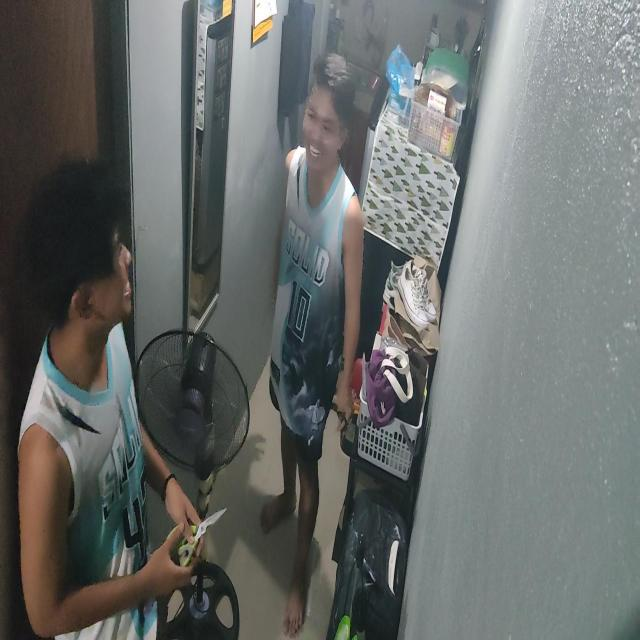scissor: (166, 506, 228, 571)
